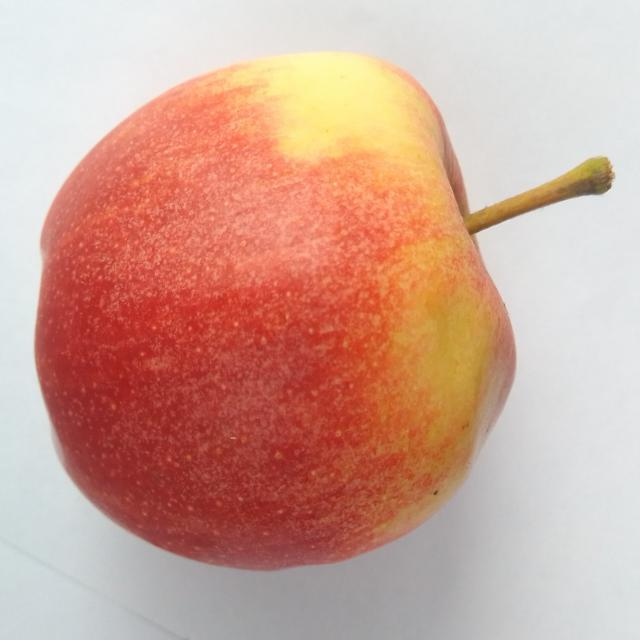Fresh Apple: (31, 45, 522, 578)
